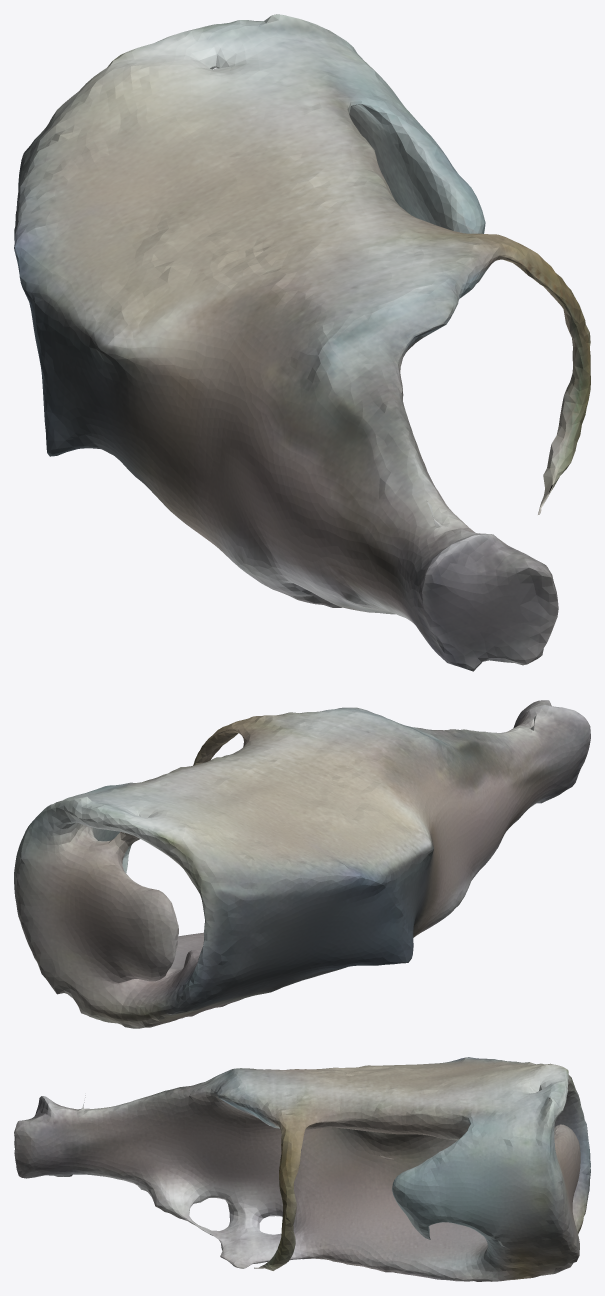
File: mate_bottle.glb
3 renders of one model, top to bottom at view 1: azimuth 30°, elevation 25°; view 2: azimuth 150°, elevation 25°; view 3: azimuth 270°, elevation 25°, orthographic. The views are drawn at different scales.
Size of the model in its own units: 0.5309 by 0.3764 by 1.02.
Materials: 1 (1 with a texture image).
